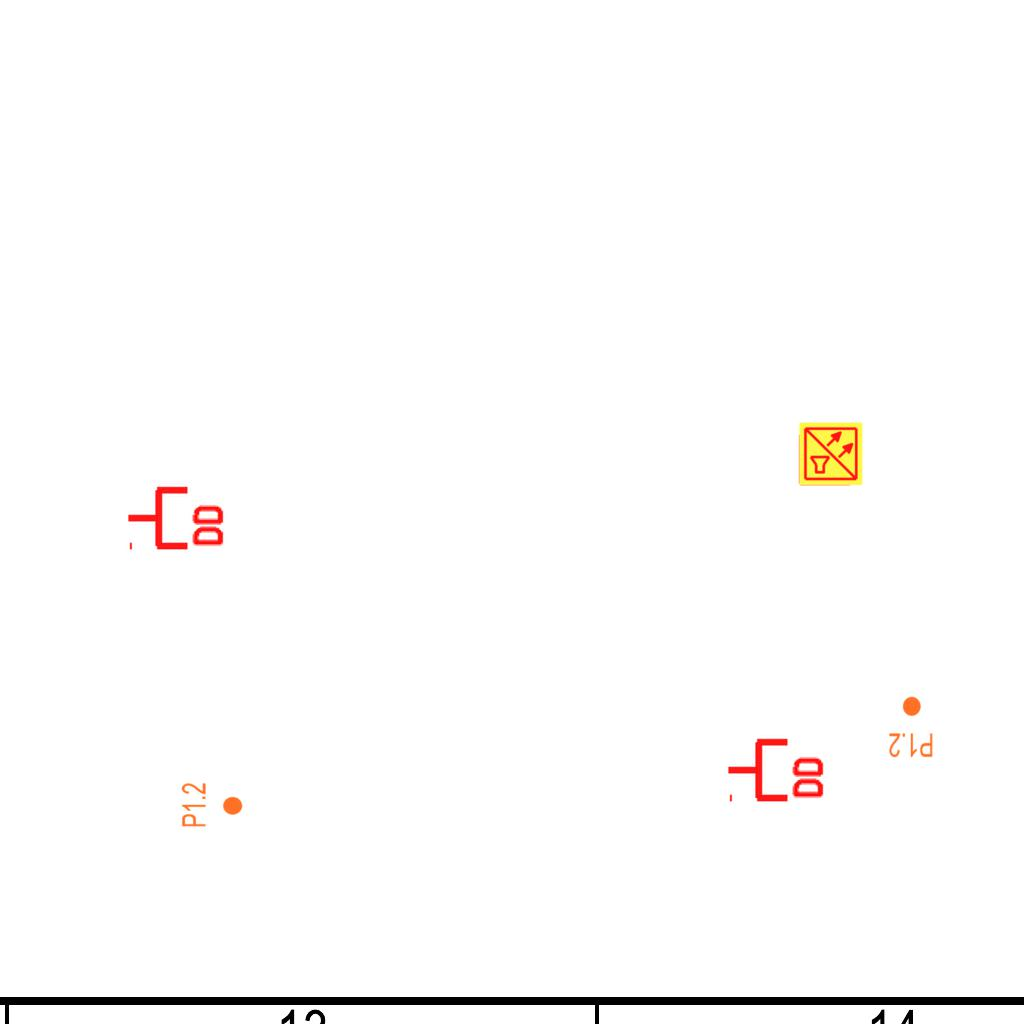Datenanschluss_zweifach: (125, 482, 228, 551), (725, 734, 828, 803)
Downlight_LED_Einbauleuchten_Flur: (180, 782, 244, 828), (888, 695, 934, 759)
OKW_Multisensormelder_(Kombination_optischer_Rauch-Kahlenmonoxid_Waerme-Melder): (798, 421, 864, 487)
